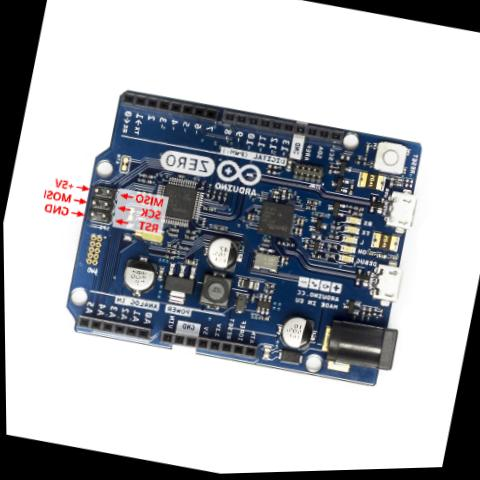Arduino-Zero: (46, 63, 452, 407)
